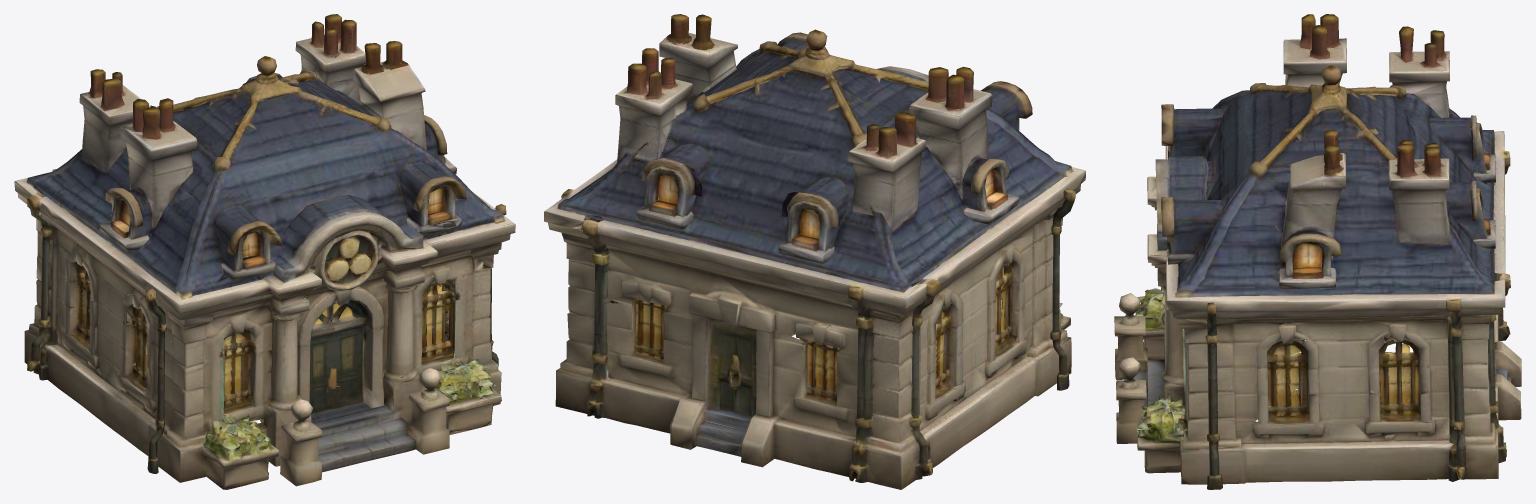
3 views of the same model, side by side, from view 1: azimuth 30°, elevation 25°; view 2: azimuth 150°, elevation 25°; view 3: azimuth 270°, elevation 25° (orthographic). The views are drawn at different scales.
Visible parts, largest first — view 1: classic__vault_bank__native_mobile; view 2: classic__vault_bank__native_mobile; view 3: classic__vault_bank__native_mobile.
Boxes of the visible parts, x1,y1,x2,y2 form: classic__vault_bank__native_mobile: (14,14,515,489); classic__vault_bank__native_mobile: (544,14,1085,489); classic__vault_bank__native_mobile: (1114,14,1521,489).
Size of the model in its own units: 1 by 0.8852 by 0.9623.
Materials: 1 (1 with a texture image).
